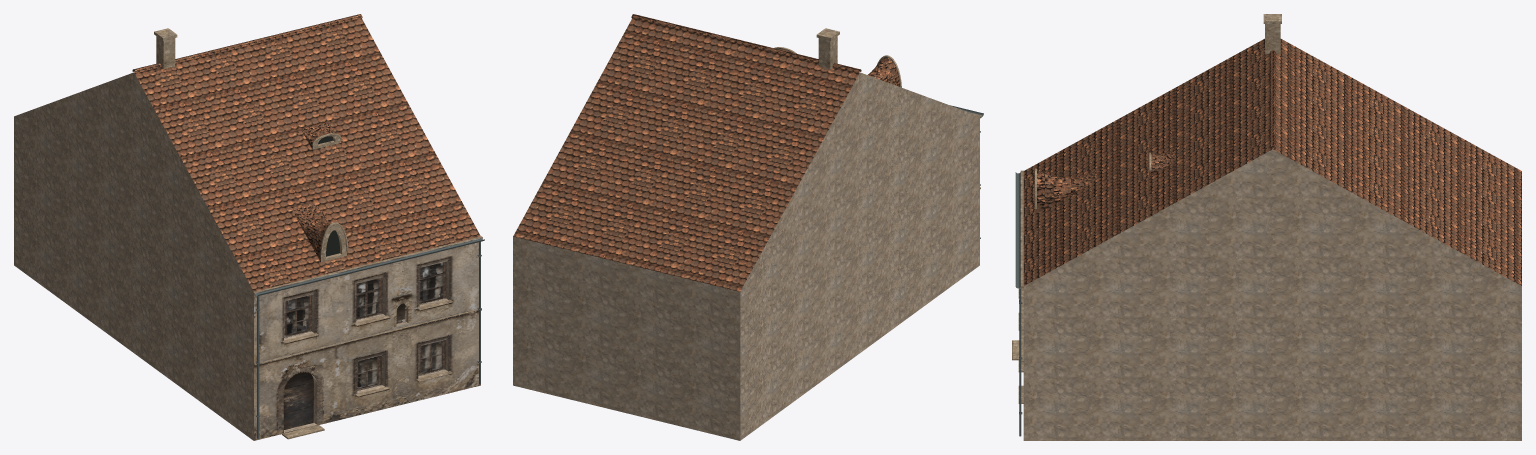
Rendered from cp263_initial_qa_failed.glb.
3 views of the same model, side by side, from view 1: azimuth 30°, elevation 25°; view 2: azimuth 150°, elevation 25°; view 3: azimuth 270°, elevation 25° (orthographic). The views are drawn at different scales.
Parts seen in each view (by area): view 1: Roof_Closed_Gables, Undocumented_Sides_Rear_Closed_Shell, Masonry_Front_G_Registered_Voids, Photographic_Fills_In_Recesses, CP_263_Metal_Gutters_And_Downpipes, DORMER_A_Arched, Cornices_Aligned_To_Photo, Sills_Bevel_C, Chimney_Stacks_Provisional, DORMER_B_Eyebrow; view 2: Roof_Closed_Gables, Undocumented_Sides_Rear_Closed_Shell, Chimney_Stacks_Provisional, DORMER_A_Arched; view 3: Roof_Closed_Gables, Undocumented_Sides_Rear_Closed_Shell, DORMER_A_Arched, CP_263_Metal_Gutters_And_Downpipes, Chimney_Stacks_Provisional, Cornices_Aligned_To_Photo.
Part boxes in pixels (x1,y1,x2,y2): Roof_Closed_Gables: [14, 14, 480, 291]; Undocumented_Sides_Rear_Closed_Shell: [14, 116, 253, 440]; Masonry_Front_G_Registered_Voids: [254, 242, 480, 440]; Photographic_Fills_In_Recesses: [284, 261, 445, 429]; CP_263_Metal_Gutters_And_Downpipes: [255, 238, 484, 438]; DORMER_A_Arched: [294, 205, 346, 262]; Cornices_Aligned_To_Photo: [253, 236, 482, 365]; Sills_Bevel_C: [282, 300, 453, 397]; Chimney_Stacks_Provisional: [154, 28, 177, 68]; DORMER_B_Eyebrow: [302, 123, 340, 149]; Roof_Closed_Gables: [513, 14, 979, 291]; Undocumented_Sides_Rear_Closed_Shell: [513, 116, 979, 440]; Chimney_Stacks_Provisional: [816, 28, 839, 68]; DORMER_A_Arched: [868, 57, 900, 86]; Roof_Closed_Gables: [1023, 38, 1521, 285]; Undocumented_Sides_Rear_Closed_Shell: [1023, 286, 1521, 440]; DORMER_A_Arched: [1036, 170, 1096, 213]; CP_263_Metal_Gutters_And_Downpipes: [1015, 172, 1022, 436]; Chimney_Stacks_Provisional: [1263, 14, 1281, 53]; Cornices_Aligned_To_Photo: [1020, 170, 1023, 362].
Bounding box in the file's own units: 10.34 × 13.57 × 19.24.
Materials: 7 (5 with a texture image).
